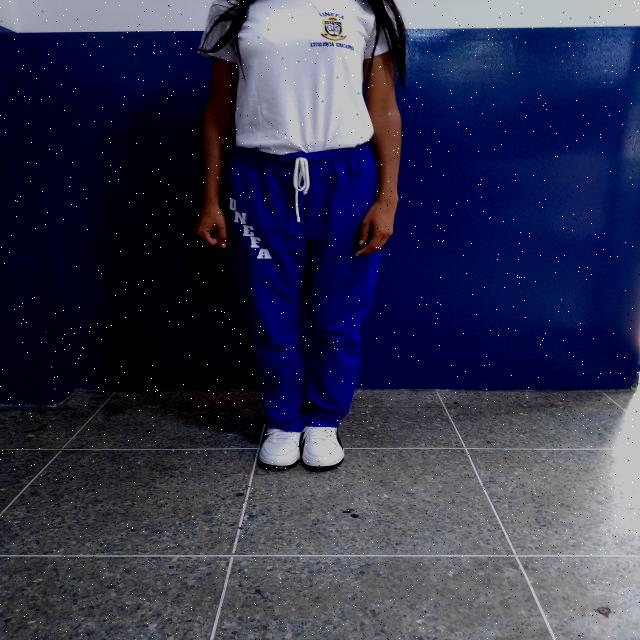uniforme_superior: (223, 140, 379, 433)
